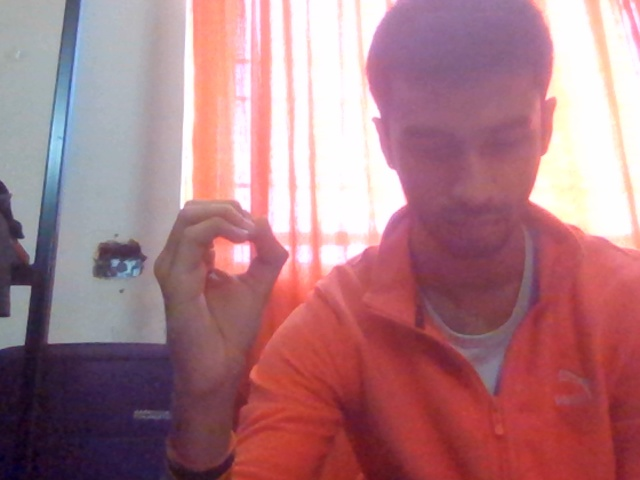O: (135, 175, 318, 442)
